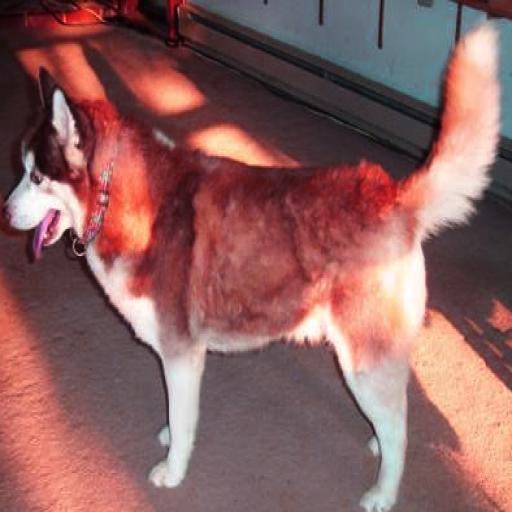dog_face: (0, 76, 82, 256)
